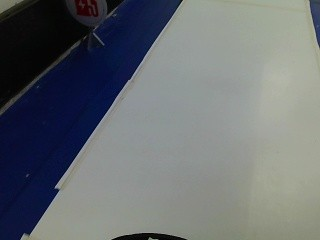battery: (64, 0, 106, 29)
